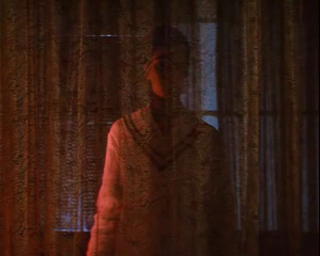face: (152, 49, 186, 97)
ms: (1, 1, 320, 256)
person: (86, 25, 237, 256)
